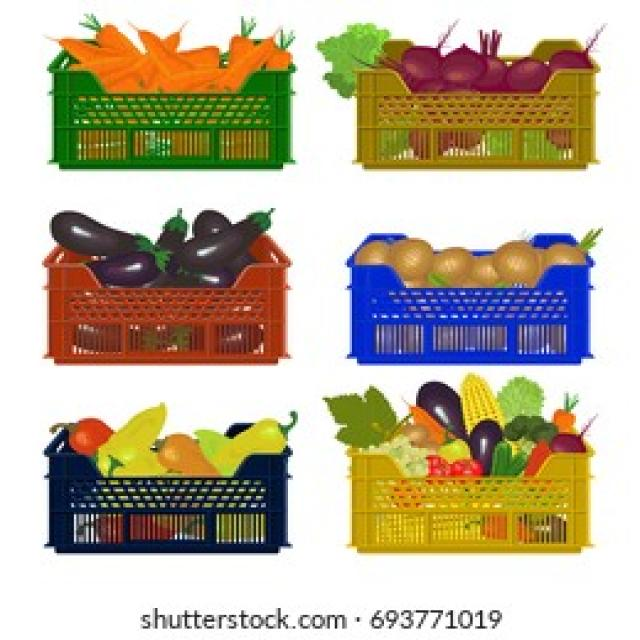basket: (49, 20, 296, 169), (47, 235, 293, 366), (44, 431, 291, 556), (350, 255, 593, 366), (356, 66, 598, 169), (350, 452, 591, 553)
